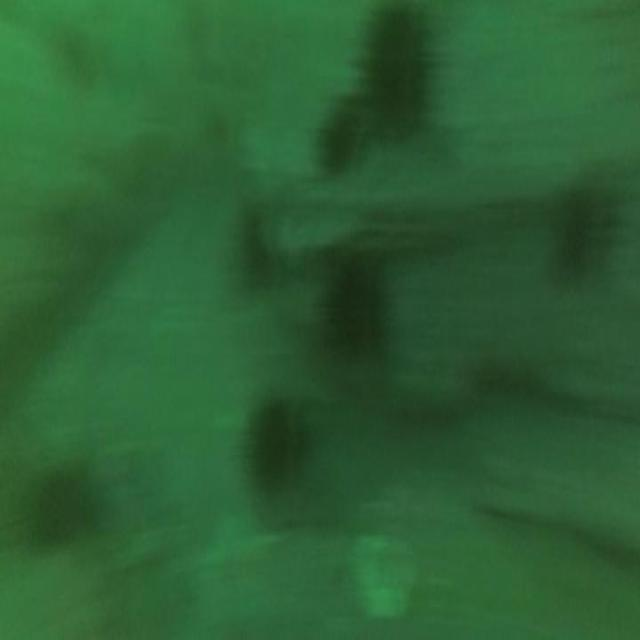echinus: (345, 5, 451, 153), (311, 242, 397, 368), (9, 454, 97, 554), (245, 392, 307, 504), (556, 178, 608, 276), (234, 204, 276, 292), (318, 96, 360, 172)
